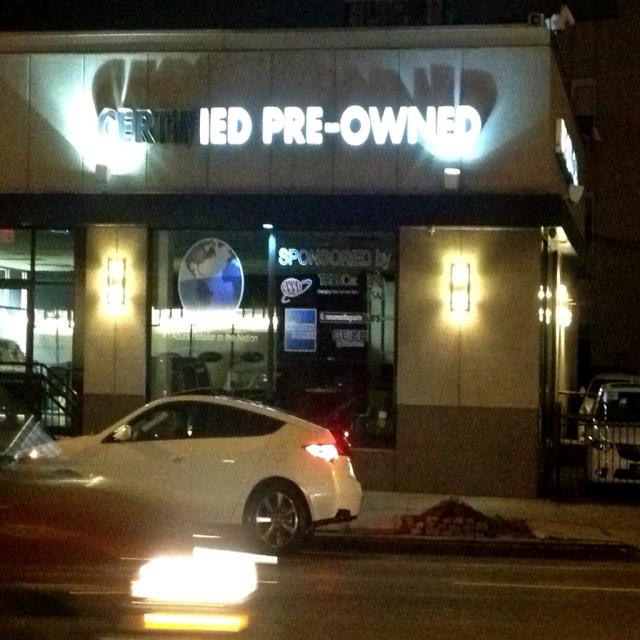car: (11, 393, 361, 550)
